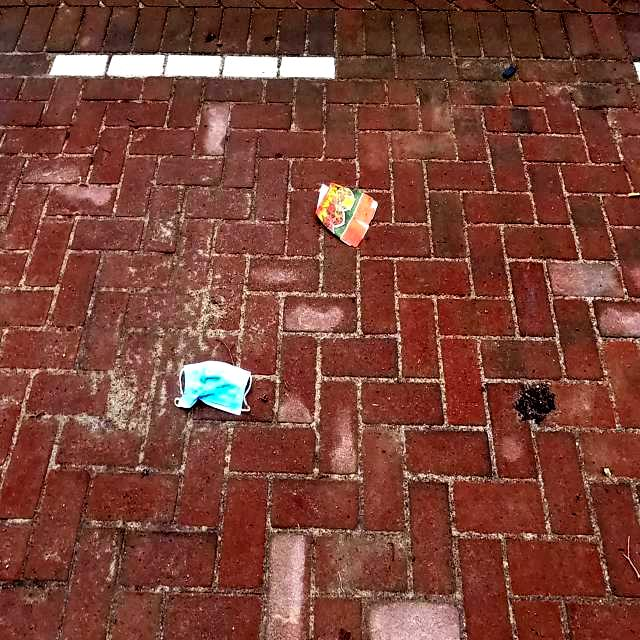Mask: (268, 513, 312, 623)
